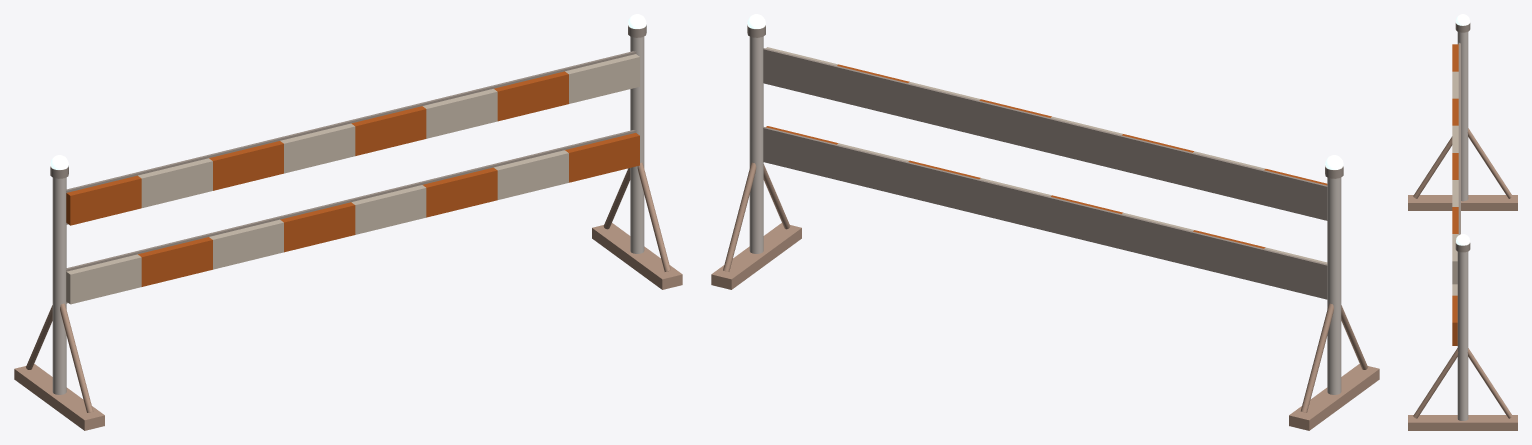
File: D13_barrier_3m.glb
3 renders of one model, left to right at view 1: azimuth 30°, elevation 25°; view 2: azimuth 150°, elevation 25°; view 3: azimuth 270°, elevation 25°, orthographic. The views are drawn at different scales.
Visible parts, largest first — view 1: bar_segment (×16), post (×2), bar_backing (×2), post_foot (×2), post_brace (×2); view 2: bar_backing (×2), post (×2), post_foot (×2), post_brace (×2); view 3: post (×2), post_foot (×2), bar_segment (×9), post_brace (×4), bar_backing, warning_light (×2), D13_barrier_3m.
Boxes of the visible parts, bbox=[...] form: bar_segment (×16): bbox=[66, 54, 639, 304]; post (×2): bbox=[52, 36, 644, 394]; bar_backing (×2): bbox=[66, 51, 636, 303]; post_foot (×2): bbox=[14, 223, 682, 430]; post_brace (×2): bbox=[60, 162, 670, 412]; bar_backing (×2): bbox=[763, 48, 1327, 299]; post (×2): bbox=[749, 36, 1341, 394]; post_foot (×2): bbox=[711, 223, 1379, 430]; post_brace (×2): bbox=[723, 162, 1333, 412]; post (×2): bbox=[1457, 32, 1468, 420]; post_foot (×2): bbox=[1408, 195, 1517, 430]; bar_segment (×9): bbox=[1452, 44, 1458, 345]; post_brace (×4): bbox=[1413, 128, 1512, 418]; bar_backing: bbox=[1458, 43, 1460, 234]; warning_light (×2): bbox=[1456, 14, 1469, 245]; D13_barrier_3m: bbox=[1455, 23, 1470, 252].
Bounding box in the file's own units: 2.94 × 1.16 × 0.6.
